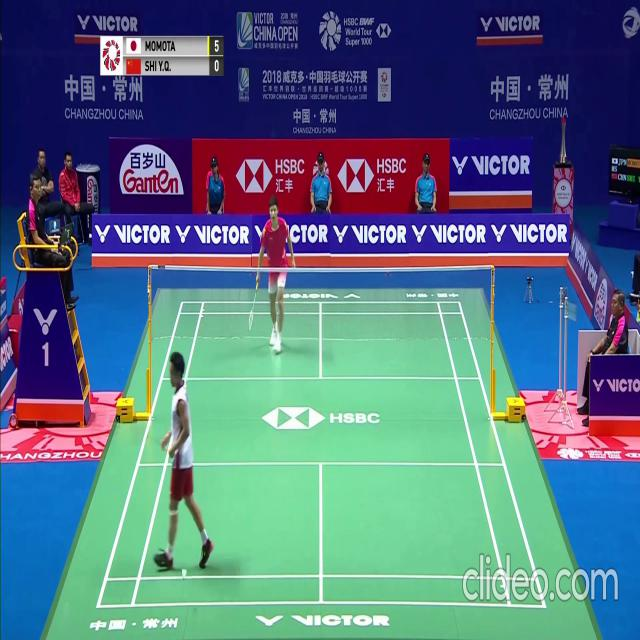Shuttlecock: (181, 575, 186, 582)
